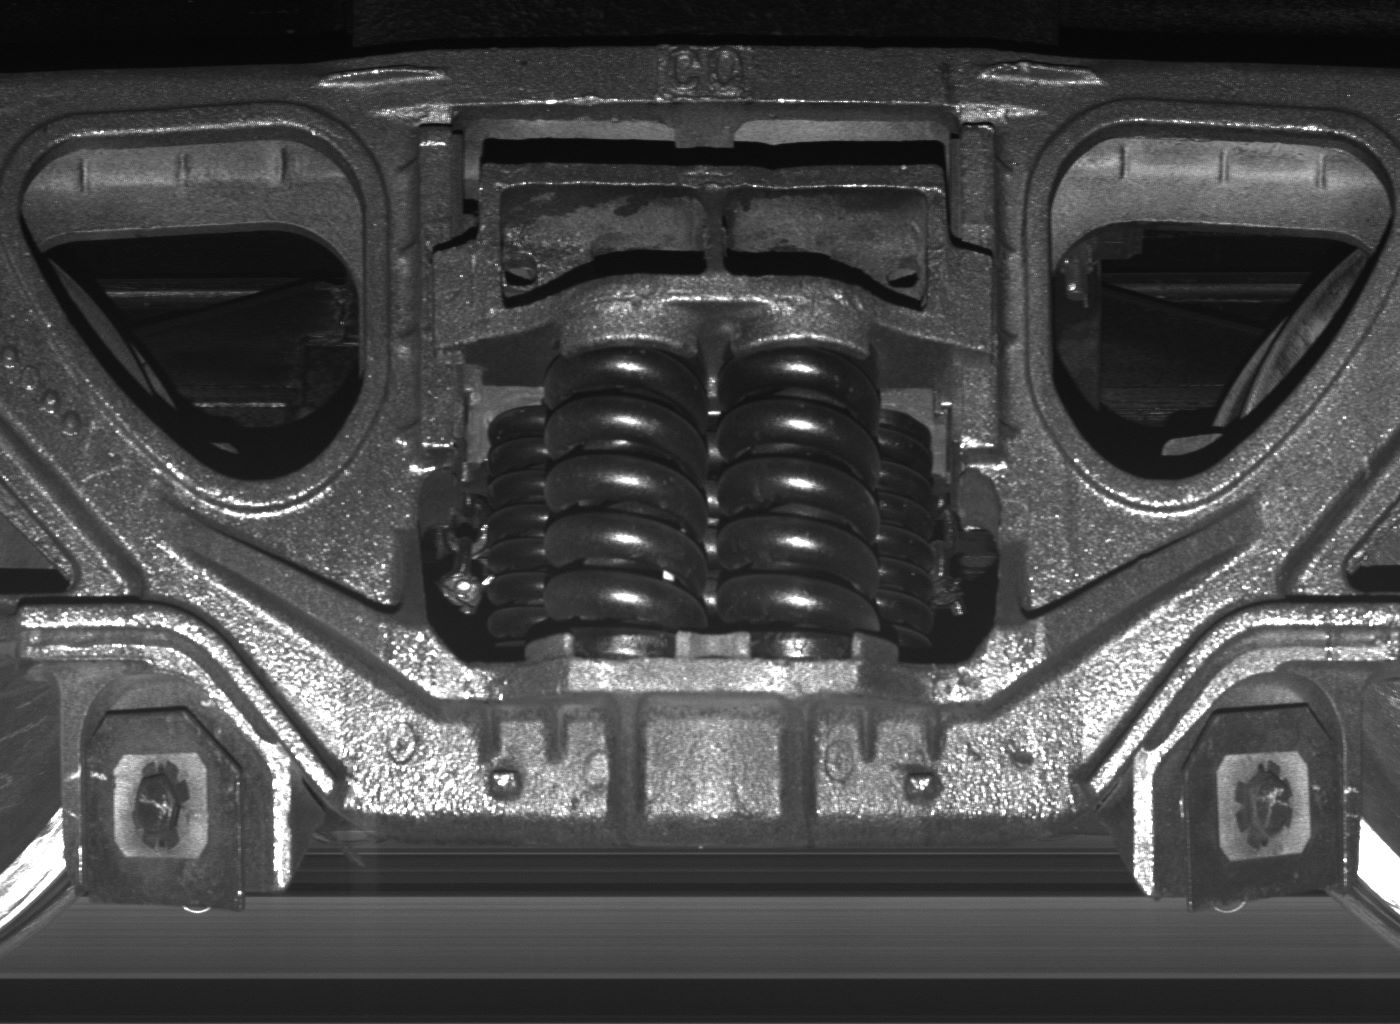Locking plate: (59, 672, 291, 912), (1135, 671, 1358, 909)
